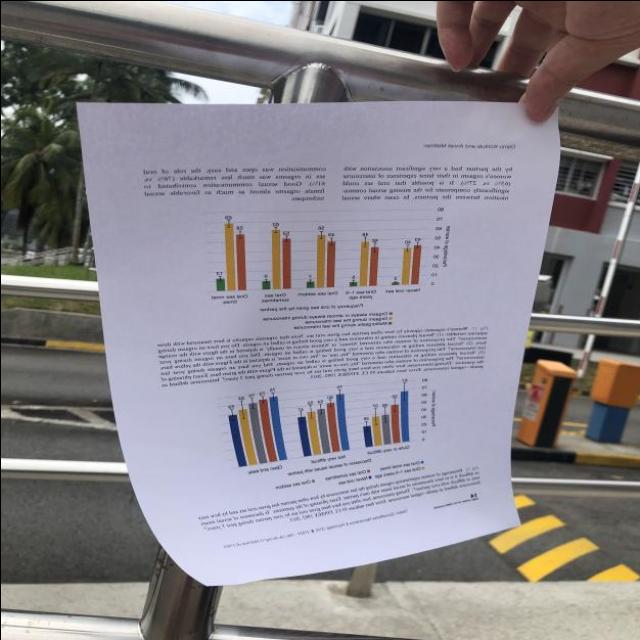kertas: (79, 100, 558, 585)
